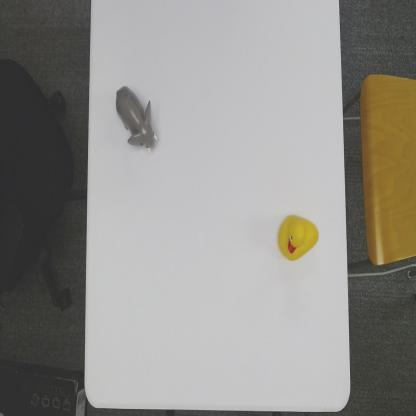Duck: (276, 211, 320, 264)
Elephant: (114, 84, 159, 155)
